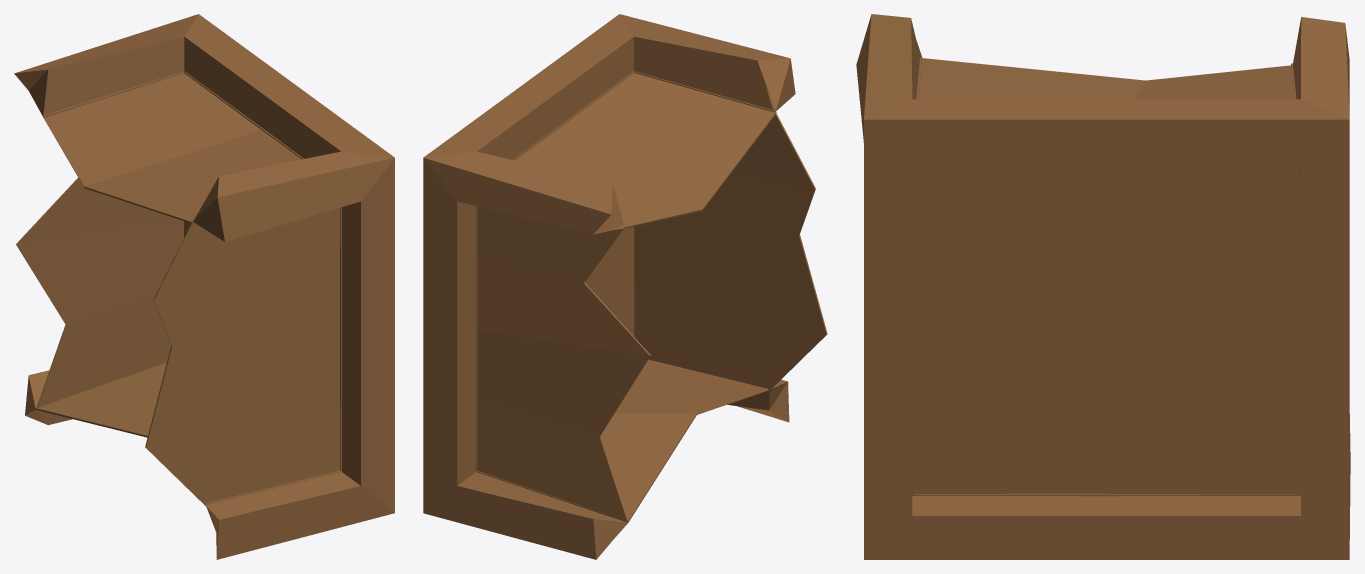
Rendered from brokenbox.fbx.
3 renders of one model, left to right at view 1: azimuth 30°, elevation 25°; view 2: azimuth 150°, elevation 25°; view 3: azimuth 270°, elevation 25°, orthographic. The views are drawn at different scales.
Visible parts, largest first — view 1: Cube; view 2: Cube; view 3: Cube.
Boxes of the visible parts, bbox=[...] form: Cube: bbox=[14, 14, 394, 559]; Cube: bbox=[423, 14, 827, 559]; Cube: bbox=[856, 14, 1350, 559].
Size of the model in its own units: 135 by 207 by 204.
